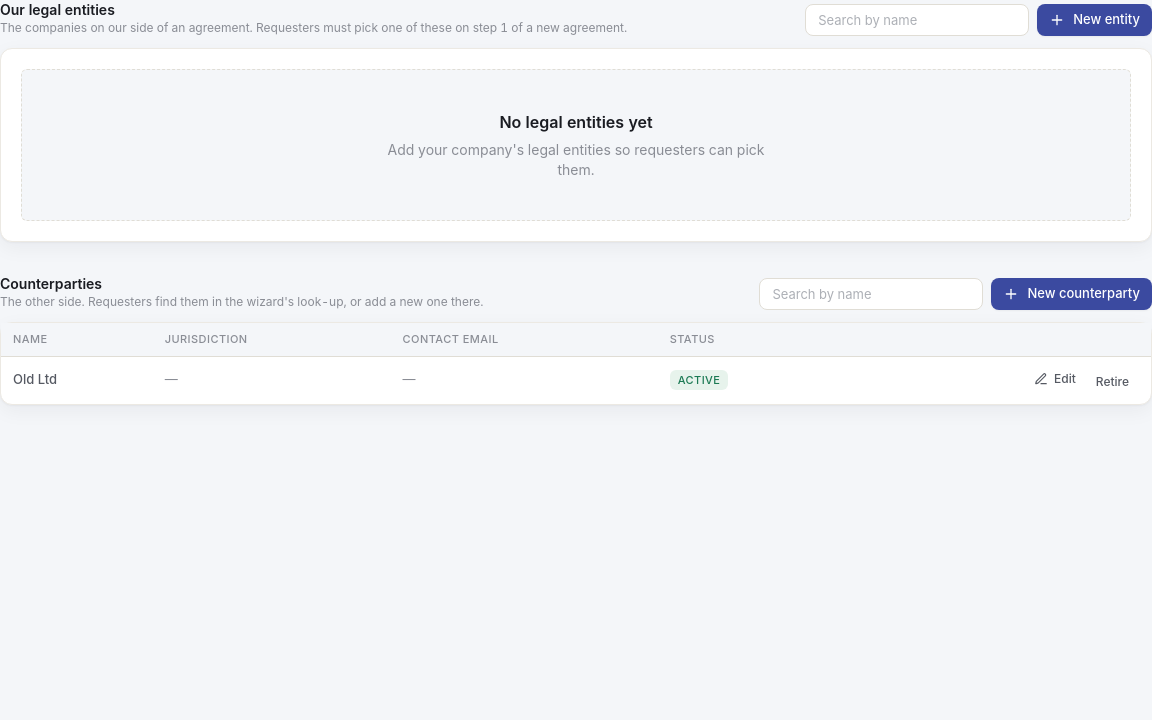
Test: editing a counterparty that was made before the rule › can still be saved without them, but an address that is typed must look like one
Click the button "Edit" at (1055, 378), box [1024,364,1086,392]
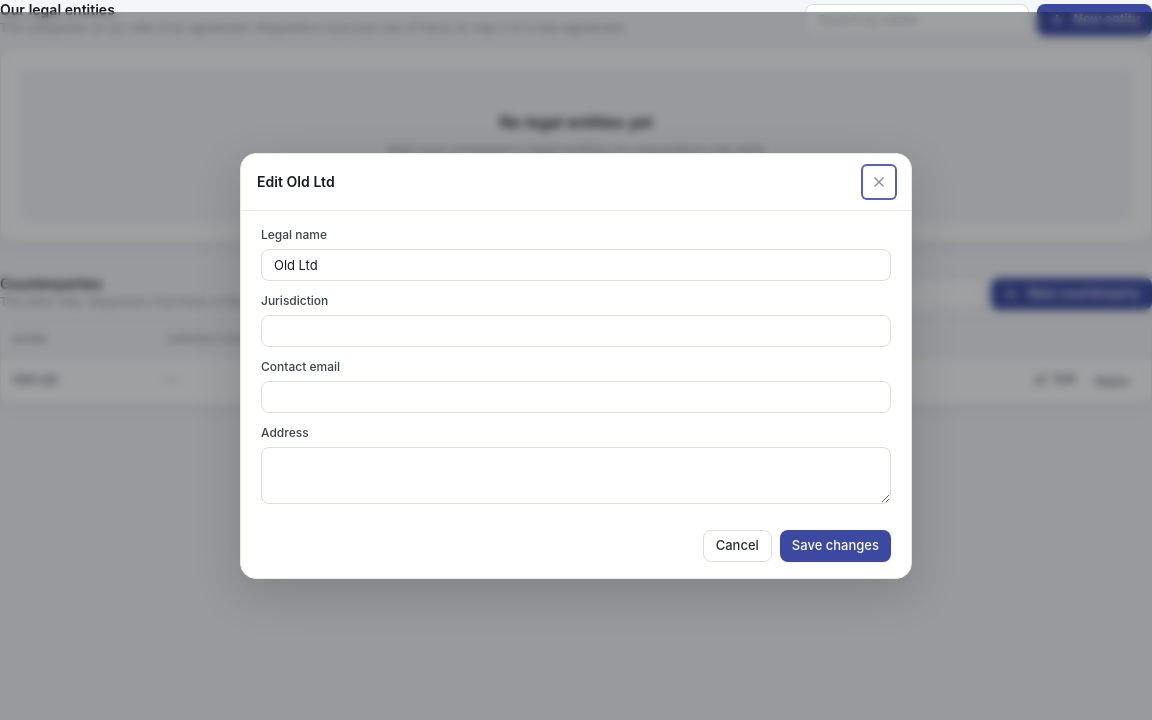
Expected: the button "Save changes" is enabled, [780,530,891,562]
Type "nope" into the field labelled "Contact email" at (576, 397), box [261,381,891,413]
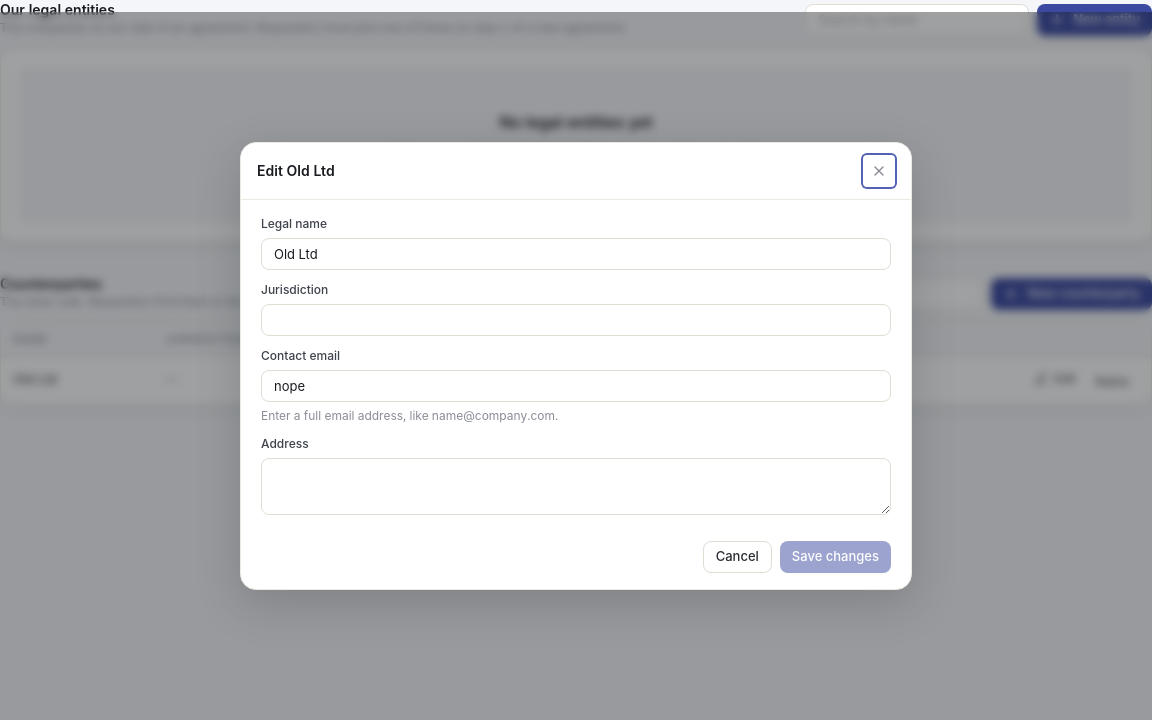
Expected: the button "Save changes" is disabled, [780,541,891,573]
Clear the field labelled "Contact email" at (576, 386), box [261,370,891,402]
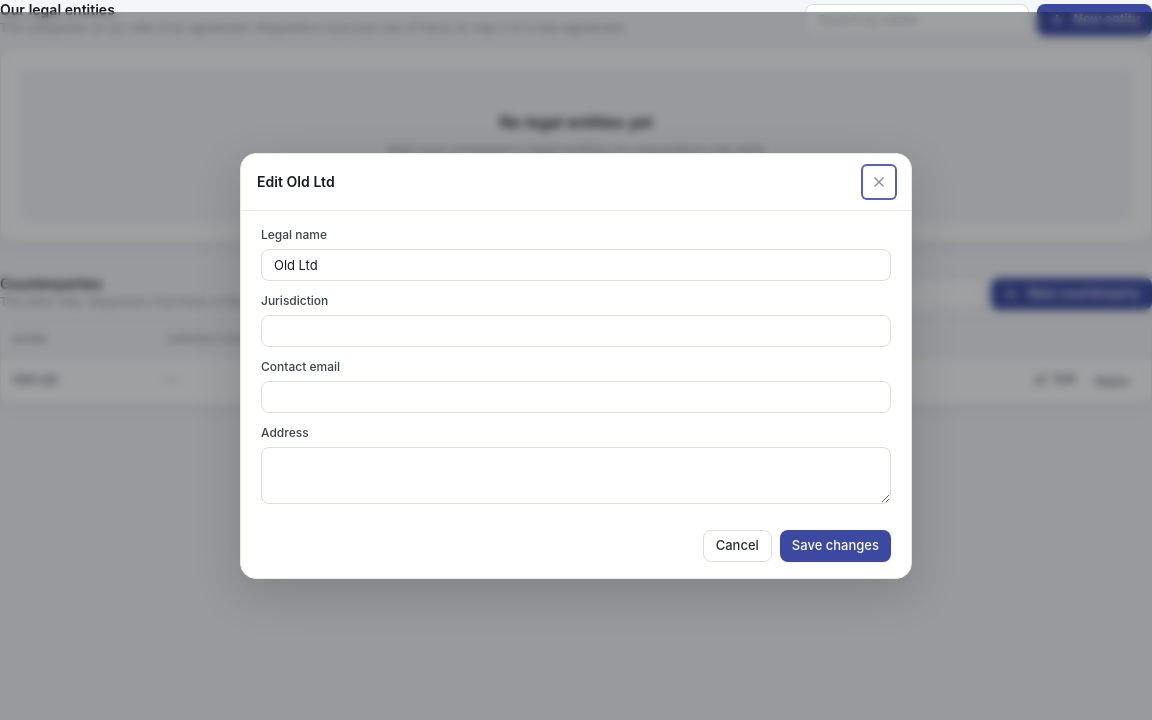
Expected: the button "Save changes" is enabled, [780,530,891,562]
